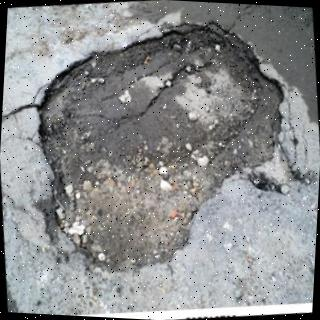pothole: (39, 21, 284, 271)
